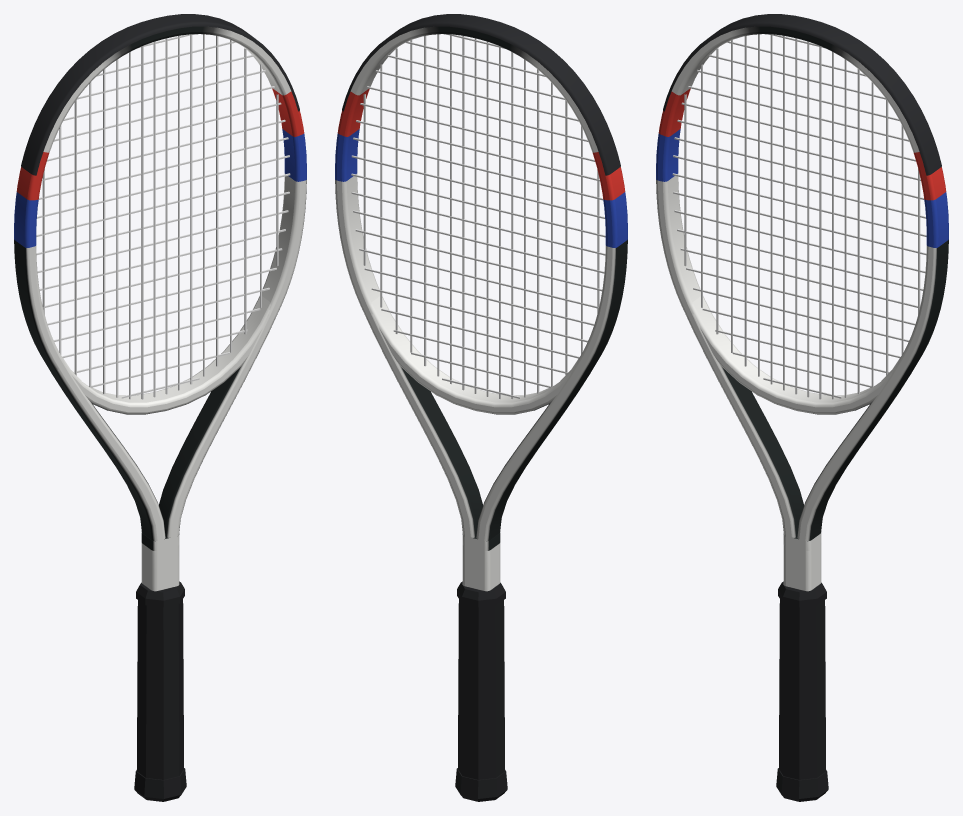
File: tecnifibre-tf40-v1-315-18x20.glb
The picture shows the model from 3 angles, left to right: view 1: azimuth 30°, elevation 25°; view 2: azimuth 150°, elevation 25°; view 3: azimuth 330°, elevation 25°; orthographic projection.
Visible parts, largest first — view 1: frame, strings_mains, strings_crosses, grip, bumper, butt_cap, collar; view 2: frame, strings_mains, strings_crosses, grip, bumper, butt_cap, collar; view 3: frame, strings_mains, strings_crosses, grip, bumper, butt_cap, collar.
Boxes of the visible parts, <box> form: frame: <box>14,26,306,591</box>; strings_mains: <box>42,34,278,399</box>; strings_crosses: <box>36,34,290,398</box>; grip: <box>137,599,183,779</box>; bumper: <box>21,14,299,175</box>; butt_cap: <box>134,768,186,801</box>; collar: <box>136,581,184,607</box>; frame: <box>335,26,627,591</box>; strings_mains: <box>363,34,599,398</box>; strings_crosses: <box>351,34,605,398</box>; grip: <box>458,599,504,779</box>; bumper: <box>342,14,620,175</box>; butt_cap: <box>455,768,507,801</box>; collar: <box>457,581,505,607</box>; frame: <box>656,26,948,591</box>; strings_mains: <box>684,34,920,399</box>; strings_crosses: <box>672,34,926,398</box>; grip: <box>779,599,825,779</box>; bumper: <box>663,14,941,175</box>; butt_cap: <box>776,768,828,801</box>; collar: <box>778,581,826,607</box>.
Size of the model in its own units: 0.2634 by 0.6861 by 0.0396.
